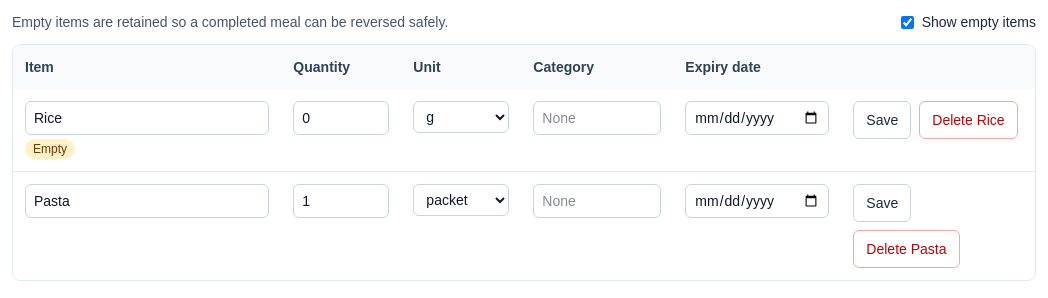
Test: PantryTable › marks empty items and lets the user hide and show them without deleting them
The width and height of the screenshot is (1048, 298).
Expected: the text "Empty" is shown, [25,139,75,159]
Click the checkbox labelled "Show empty items" at (907, 22), box [901,16,914,28]
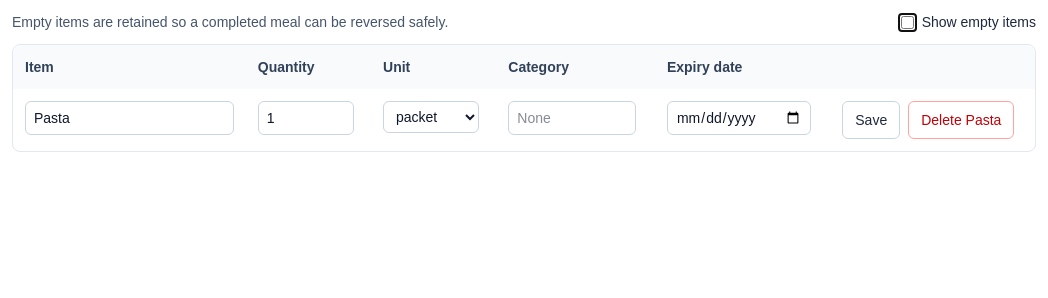
Expected: the field named "Item name for Pasta" is shown, [25,101,234,135]
Click the checkbox labelled "Show empty items" at (907, 22), box [901,16,914,28]
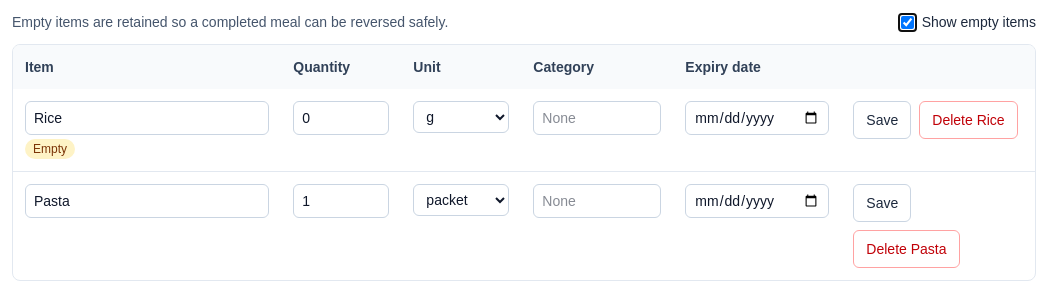
Now the field named "Item name for Rice" is shown, box [25,101,269,135]
